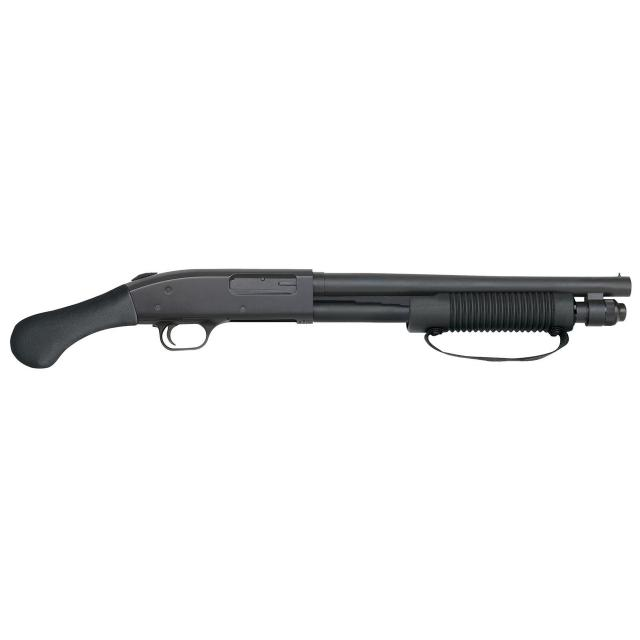ShotGun: (10, 268, 632, 369)
